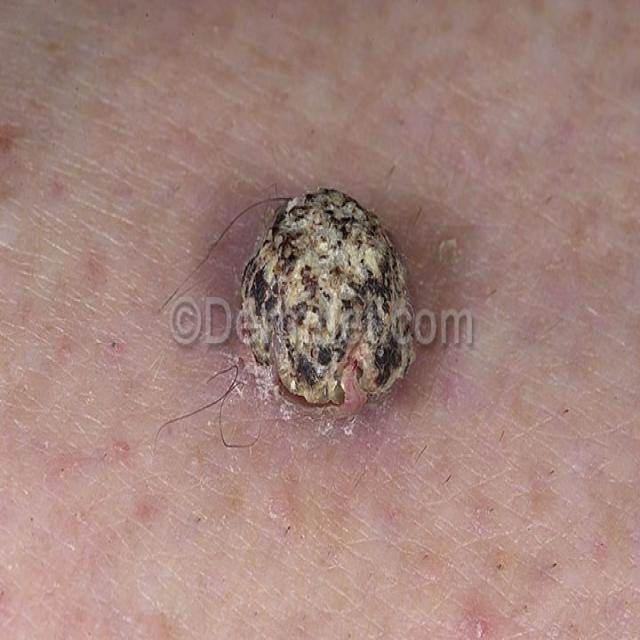Eczema: (210, 162, 429, 418)
